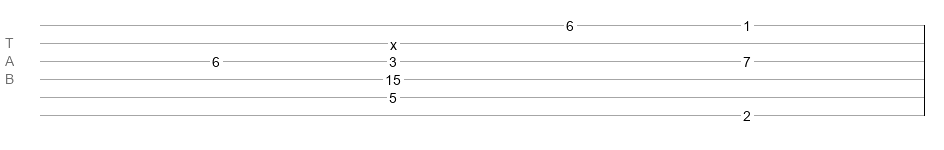1: (743, 18, 751, 28)
15: (385, 72, 401, 82)
2: (743, 108, 751, 118)
3: (389, 54, 397, 64)
5: (389, 90, 397, 100)
6: (212, 54, 220, 64), (566, 18, 574, 28)
7: (743, 54, 751, 64)
x: (390, 37, 397, 45)
